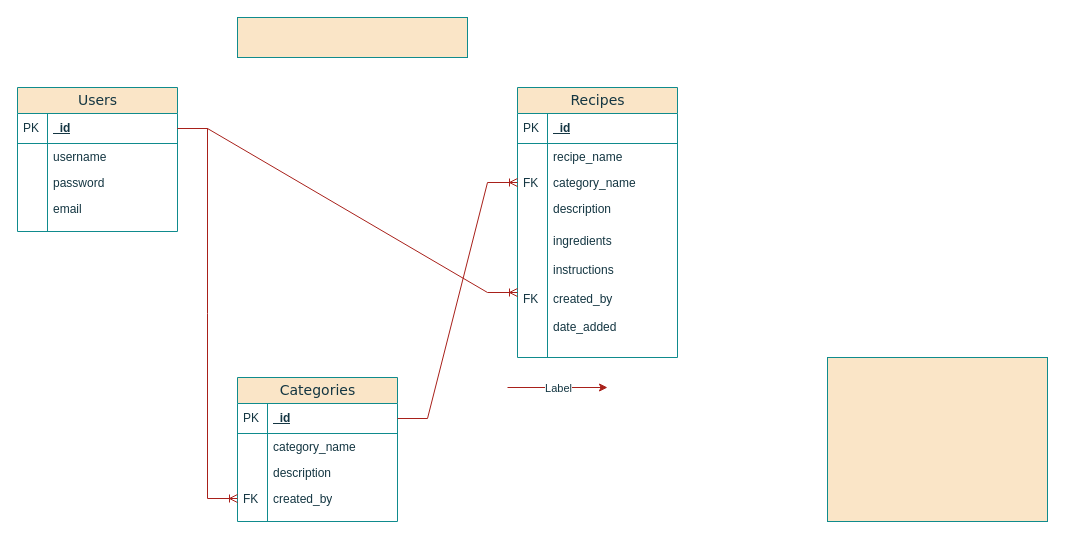
The diagram is 1065 pixels wide and 539 high, and some of its shapes have lost their labels. The centre of each missing label's shape, as x and y in pixels:
"Fl avorVault ER D" goes at (x=352, y=37).
"Legend: PK - Primary Key FK - Foreign Key 1 - One n - Many" goes at (x=937, y=439).
